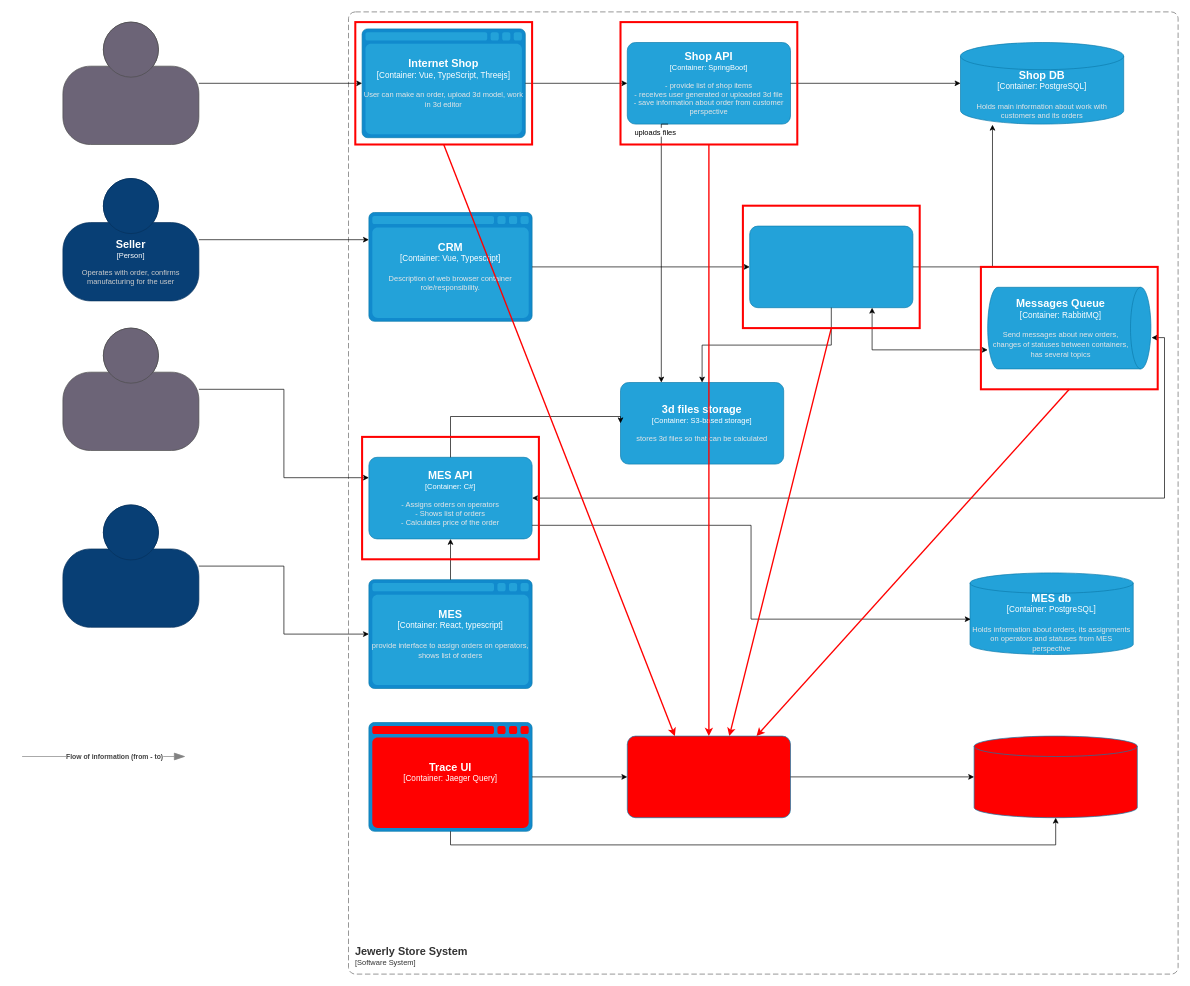
Image size: 1190x986. Some labels were removed from this diagram. The centre of each missing label's shape, as x and y in pixels:
"API user [Person] Description of external person." belongs at point (130, 389).
"CRM API [Container: SpringBoot] Description of container role/responsibility." belongs at point (831, 266).
"Customer [Person] Description of external person." belongs at point (130, 82).
"Operator [Person] Takes order in work, manufactures jewerly" belongs at point (130, 565).
"Trace collector [Container: Jaeger]" belongs at point (708, 776).
"Trace storage [Container: Elasticsearch]" belongs at point (1055, 776).
